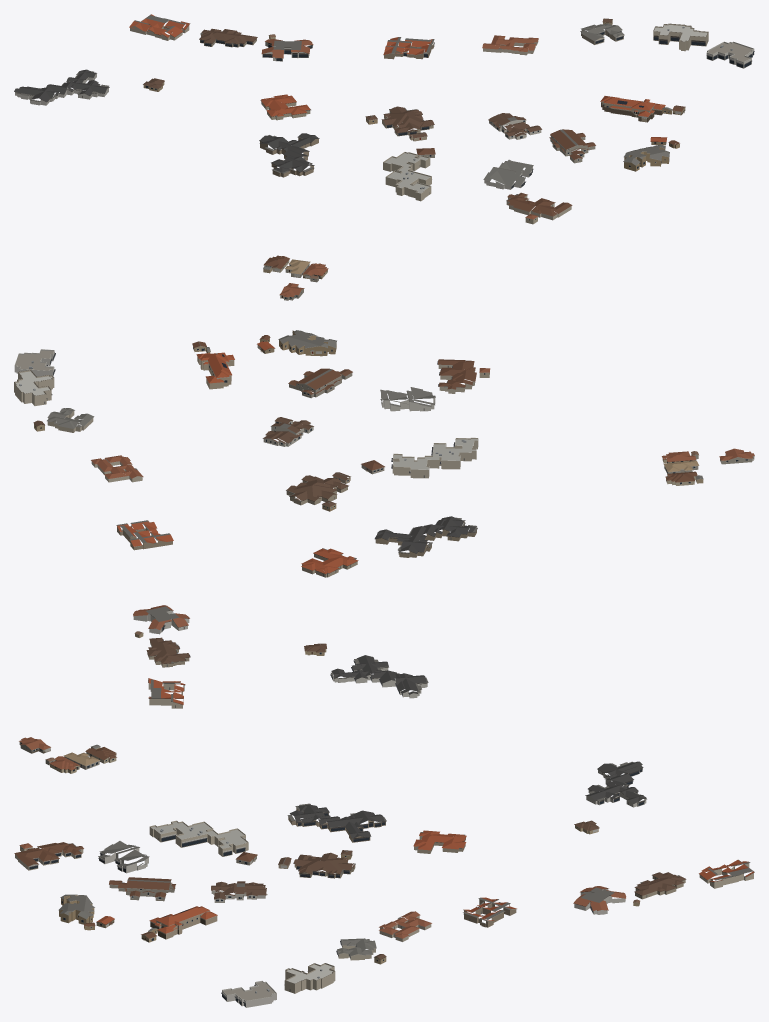
3 views of the same model, one above another, from view 1: azimuth 30°, elevation 25°; view 2: azimuth 150°, elevation 25°; view 3: azimuth 270°, elevation 25° (orthographic). The views are drawn at different scales.
Parts seen in each view (by area): view 1: buildings_r6_c2_lod0; view 2: buildings_r6_c2_lod0; view 3: buildings_r6_c2_lod0.
Part boxes in pixels (x1,y1,x2,y2): buildings_r6_c2_lod0: (14,14,754,300); buildings_r6_c2_lod0: (14,330,754,708); buildings_r6_c2_lod0: (14,737,754,1007).
Size of the model in its own units: 557 by 64.23 by 588.
